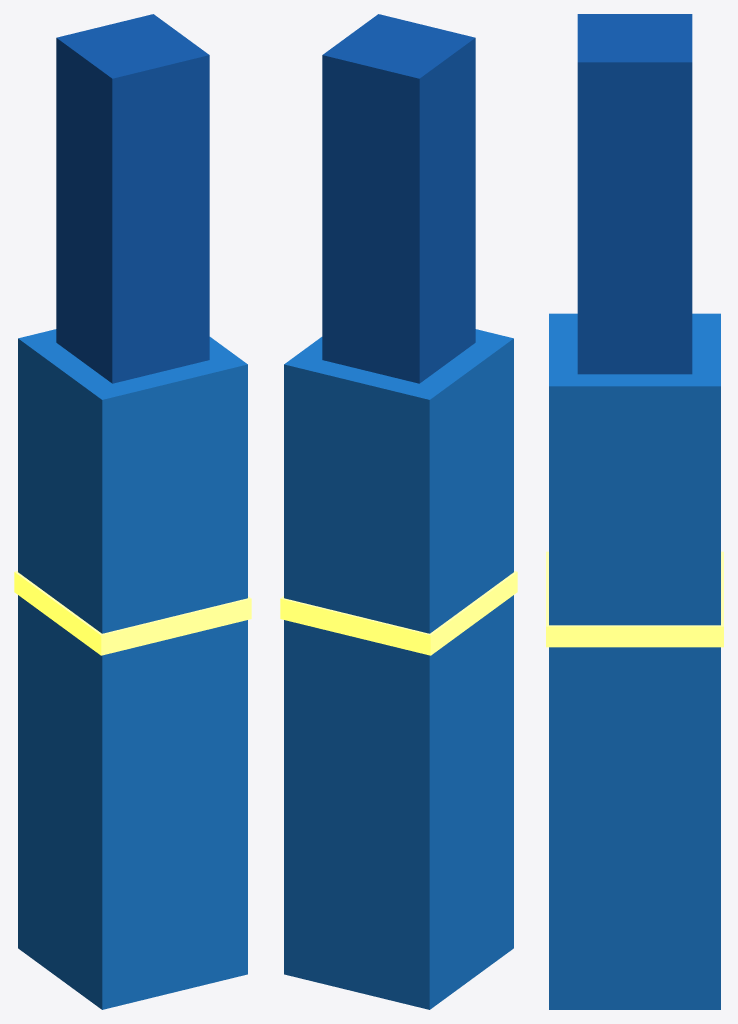
Rendered from deco_city_1.glb.
3 renders of one model, left to right at view 1: azimuth 30°, elevation 25°; view 2: azimuth 150°, elevation 25°; view 3: azimuth 270°, elevation 25°, orthographic. The views are drawn at different scales.
Parts seen in each view (by area): view 1: deco_city_1; view 2: deco_city_1; view 3: deco_city_1.
Boxes of the visible parts, bbox=[...] form: deco_city_1: bbox=[14, 14, 251, 1009]; deco_city_1: bbox=[280, 14, 517, 1009]; deco_city_1: bbox=[546, 14, 723, 1009].
Bounding box in the file's own units: 3.1 × 18 × 3.1.
